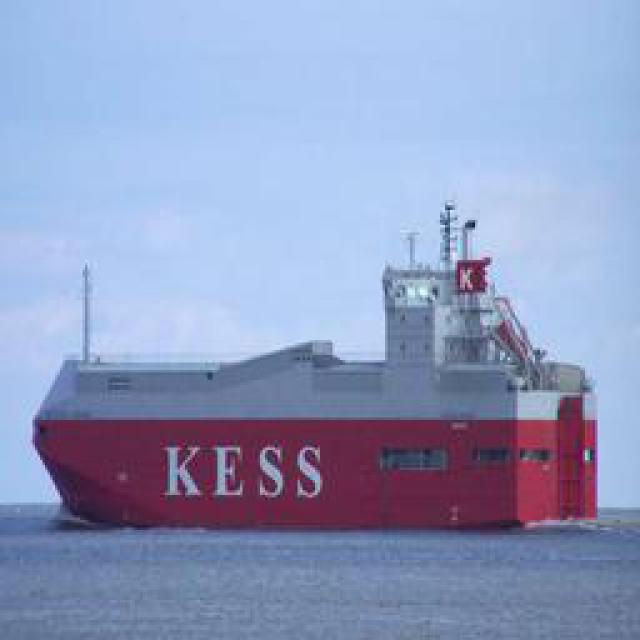Ship: (36, 161, 591, 534)
